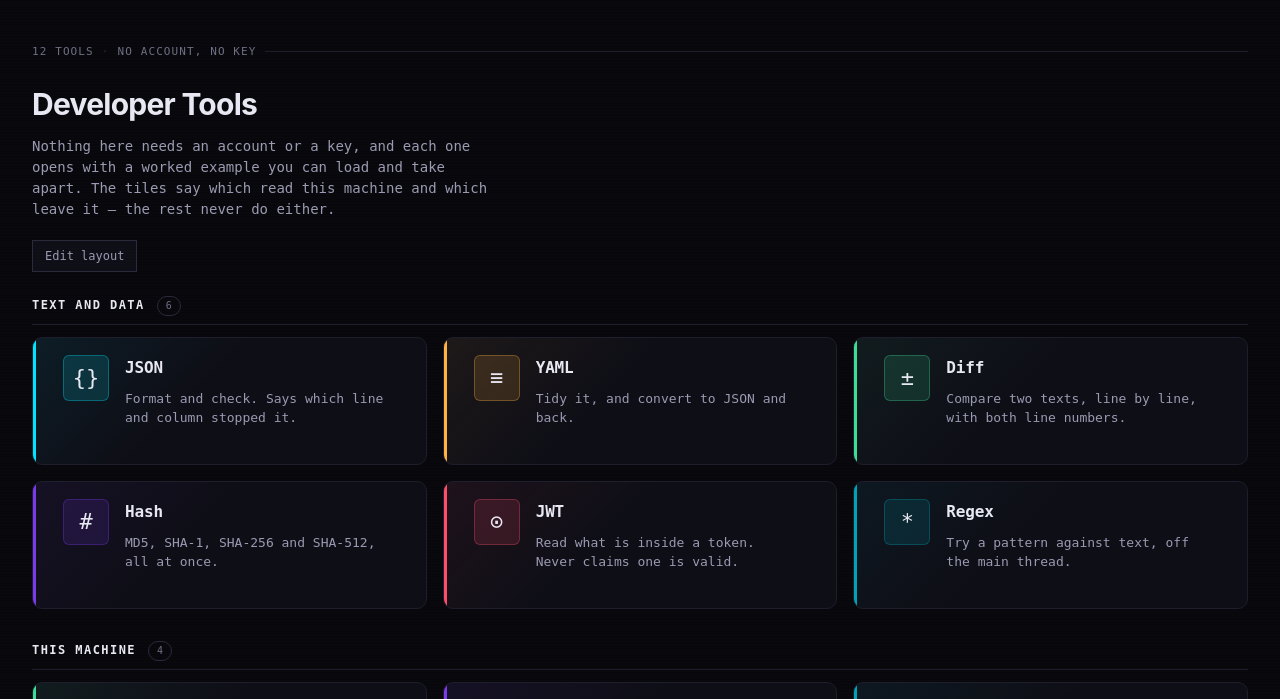
Test case: Developer › more than one at a time › switches between them by their tabs
Click the button that starts with "JSON" at (225, 397), box [57,354,394,441]
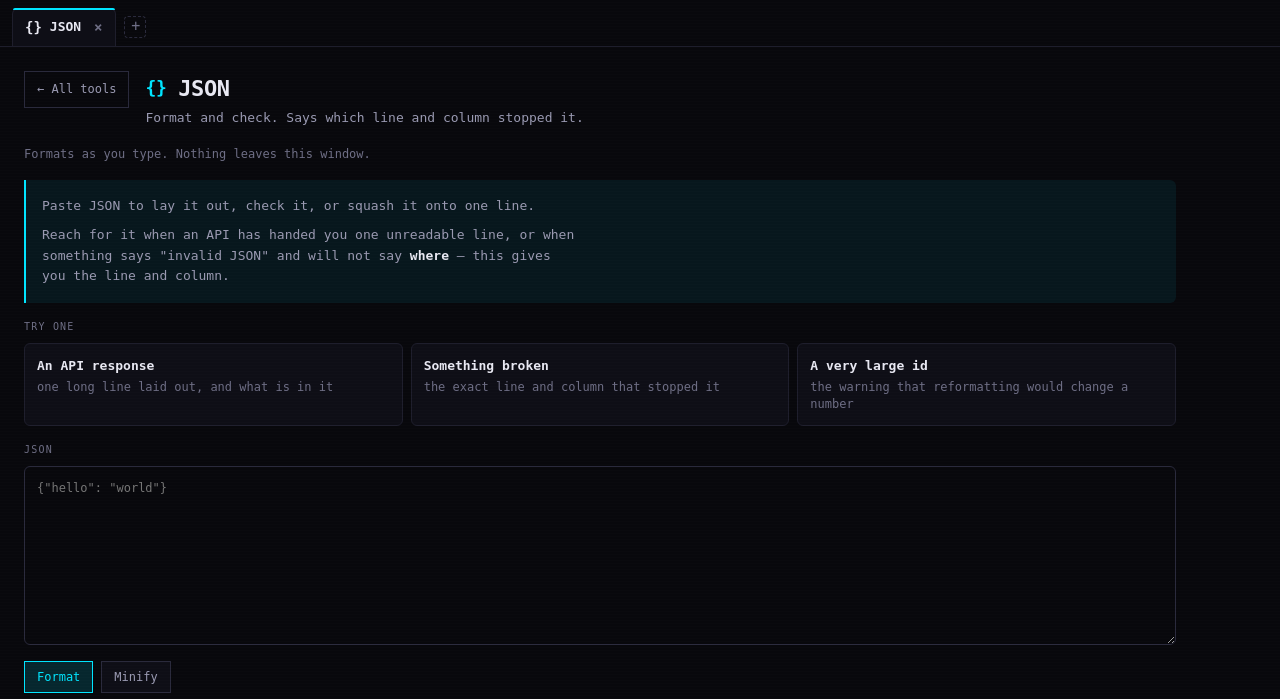
Click the button "← All tools" at (77, 89), box [24,71,130,108]
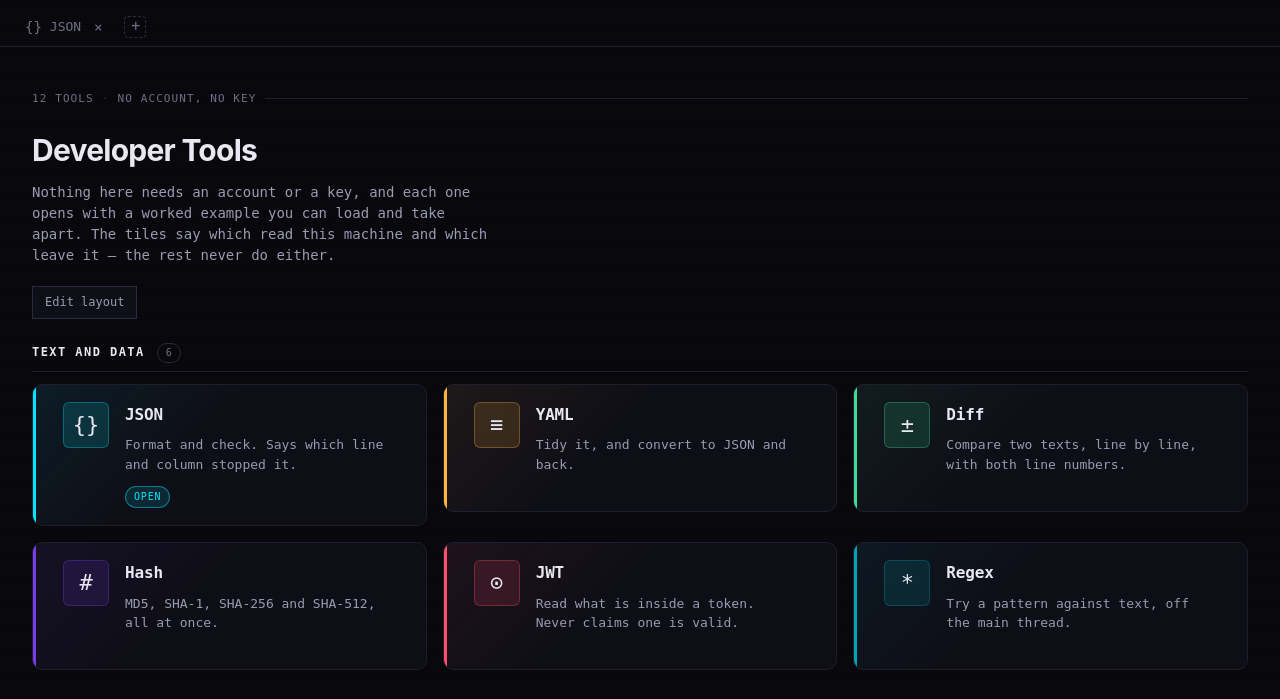
Click the button "# Hash MD5, SHA-1, SHA-256 and SHA-512, all at once." at (225, 603), box [57,559,394,646]
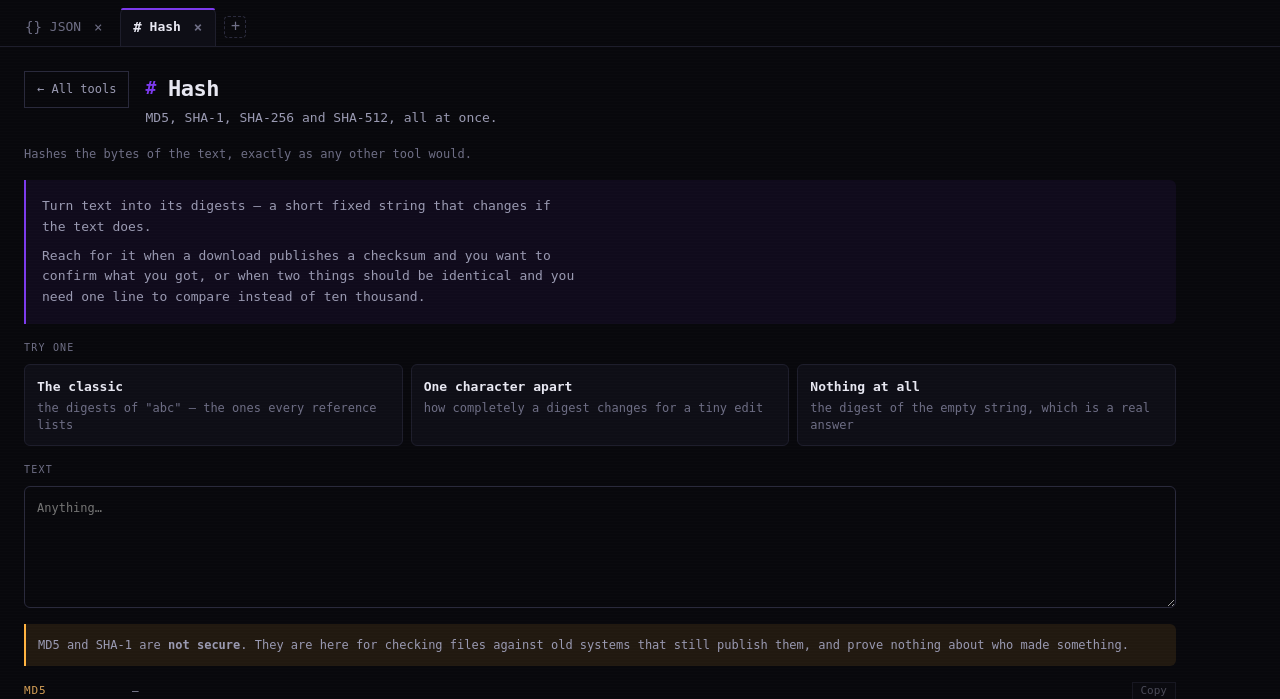
Click the tab "{} JSON ×" at (64, 27), box [12,8,116,46]
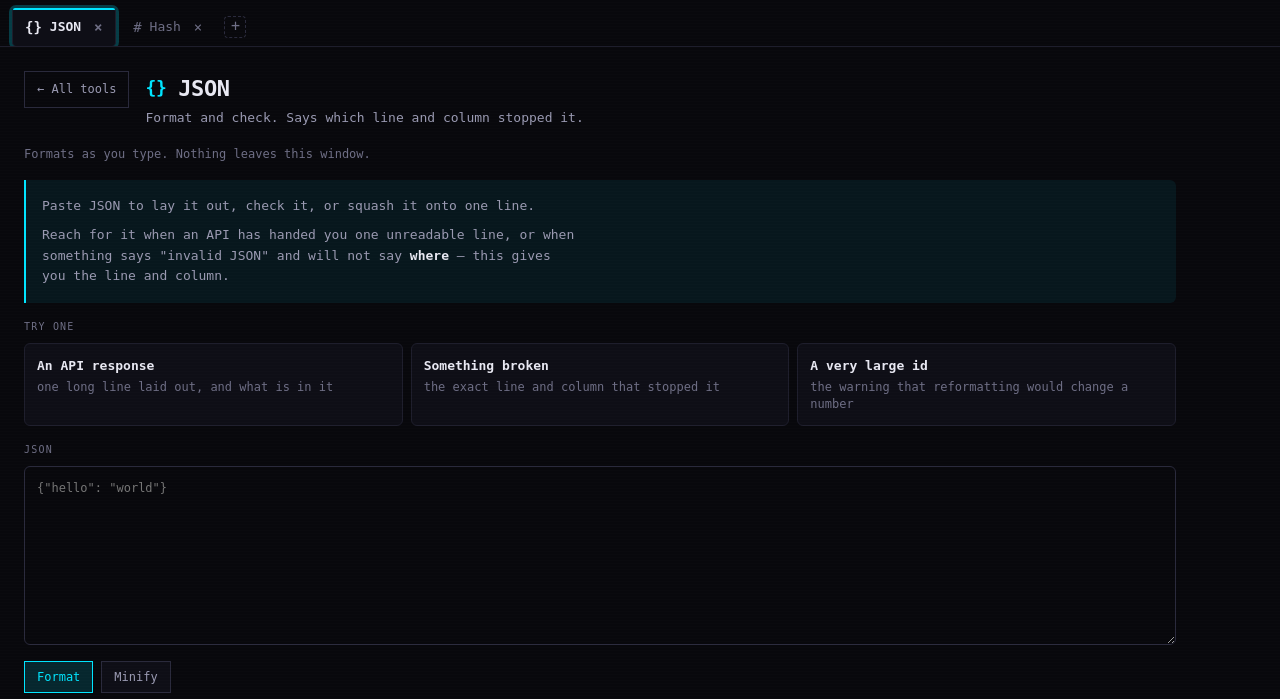
Result: the text box labelled "JSON" is shown at [24,466,1176,645]
